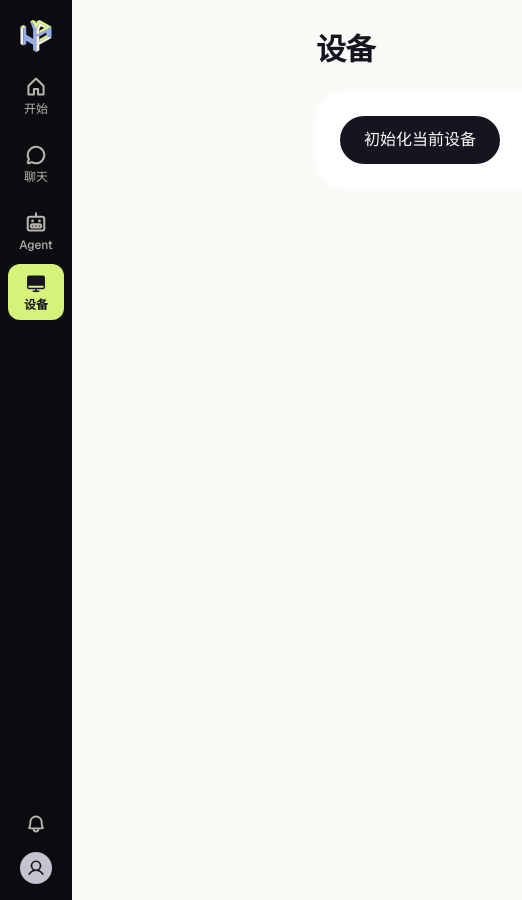
retains the requested device entry with a login prompt
Click the button "初始化当前设备".
click(420, 140)  # box [340, 116, 500, 164]
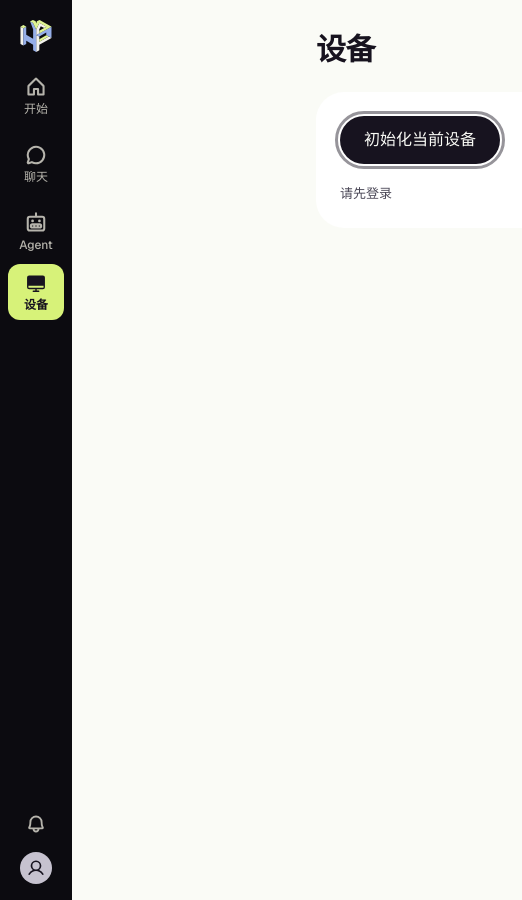
expect the text "请先登录" is shown: met, box [340, 185, 392, 202]
